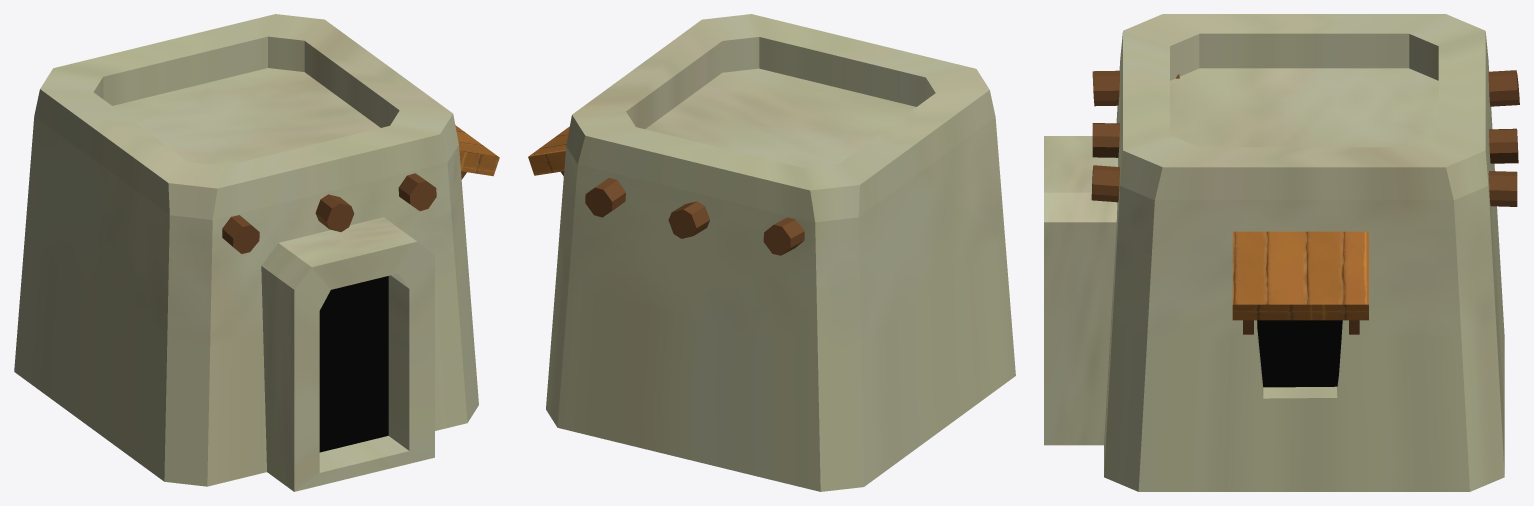
The model's file is Small House.fbx.
3 views of the same model, side by side, from view 1: azimuth 30°, elevation 25°; view 2: azimuth 150°, elevation 25°; view 3: azimuth 270°, elevation 25° (orthographic). The views are drawn at different scales.
Parts seen in each view (by area): view 1: Cube, Cube.001, Cube.002, Cube.042, Cube.043, Cube.041; view 2: Cube, Cube.002, Cube.039, Cube.040, Cube.038; view 3: Cube, Cube.001, Cube.002, Cube.040, Cube.038, Cube.039, Cube.041, Cube.042, Cube.043.
Part boxes in pixels (bbox=[...]): Cube: bbox=[14, 14, 478, 486]; Cube.001: bbox=[261, 217, 434, 491]; Cube.002: bbox=[455, 125, 499, 176]; Cube.042: bbox=[315, 194, 354, 231]; Cube.043: bbox=[222, 215, 259, 253]; Cube.041: bbox=[398, 173, 436, 210]; Cube: bbox=[546, 14, 1015, 491]; Cube.002: bbox=[528, 126, 569, 175]; Cube.039: bbox=[668, 201, 709, 238]; Cube.040: bbox=[763, 217, 804, 255]; Cube.038: bbox=[585, 178, 625, 217]; Cube: bbox=[1104, 14, 1504, 491]; Cube.001: bbox=[1044, 136, 1117, 445]; Cube.002: bbox=[1232, 231, 1368, 320]; Cube.040: bbox=[1488, 70, 1519, 106]; Cube.038: bbox=[1488, 171, 1517, 206]; Cube.039: bbox=[1489, 128, 1518, 163]; Cube.041: bbox=[1091, 165, 1119, 202]; Cube.042: bbox=[1092, 123, 1119, 157]; Cube.043: bbox=[1092, 70, 1179, 106].
Bounding box in the file's own units: 825 × 599 × 815.
Materials: 4 (2 with a texture image).
